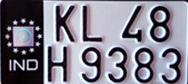3: (160, 47, 184, 84), (106, 46, 129, 84)
4: (119, 5, 145, 44)
8: (148, 5, 172, 43), (133, 47, 156, 83)
9: (80, 46, 102, 83)
H: (45, 45, 71, 82)
K: (53, 4, 78, 43)
L: (80, 5, 104, 44)
